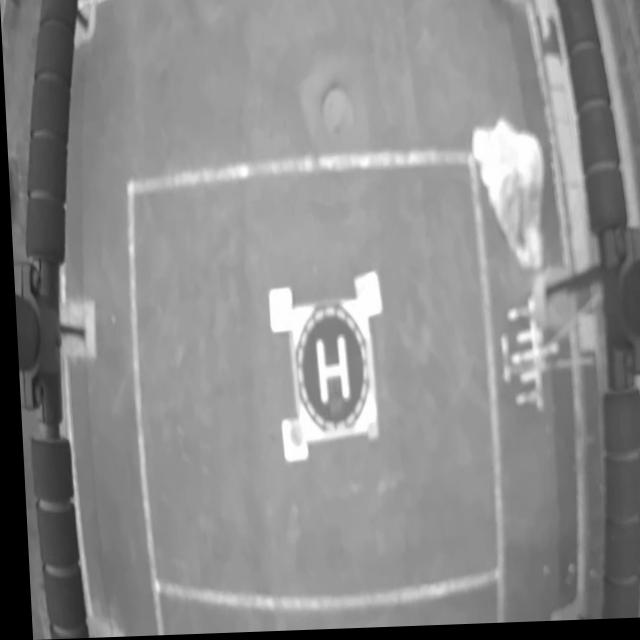Helipad: (311, 335, 348, 409)
